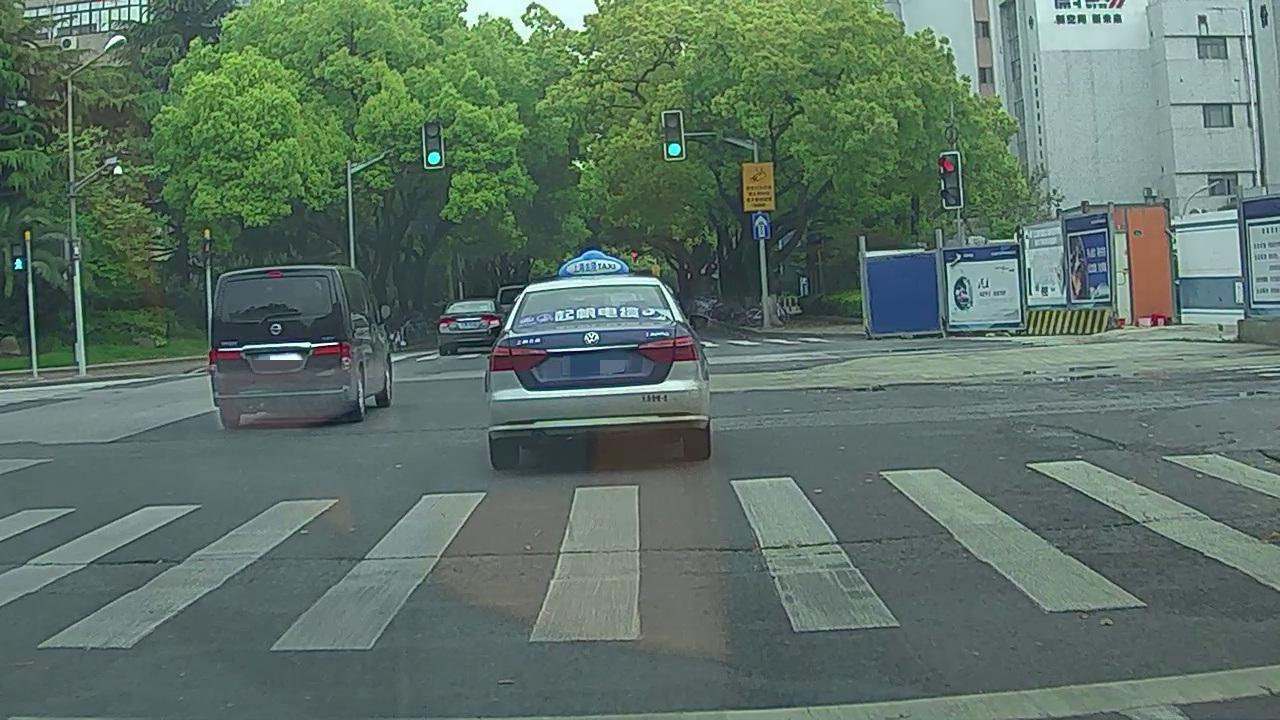traffic_light: (423, 119, 442, 169), (665, 115, 684, 159)
